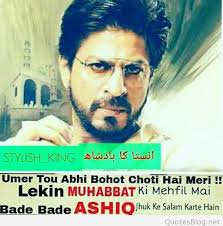noMask: (53, 1, 172, 131)
